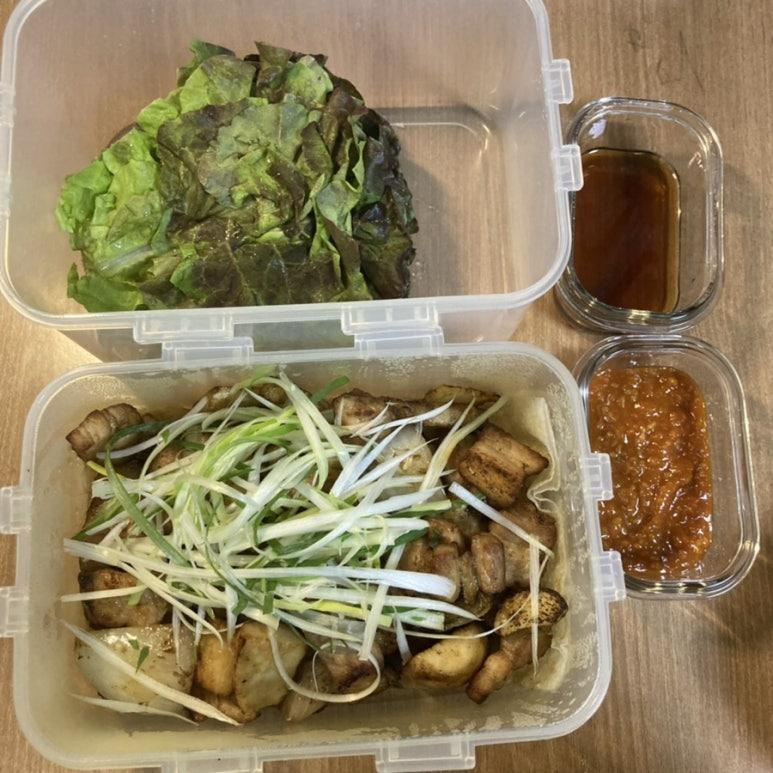Lunch Box: (0, 329, 625, 772), (0, 0, 578, 359), (576, 335, 758, 597), (556, 97, 723, 332)
